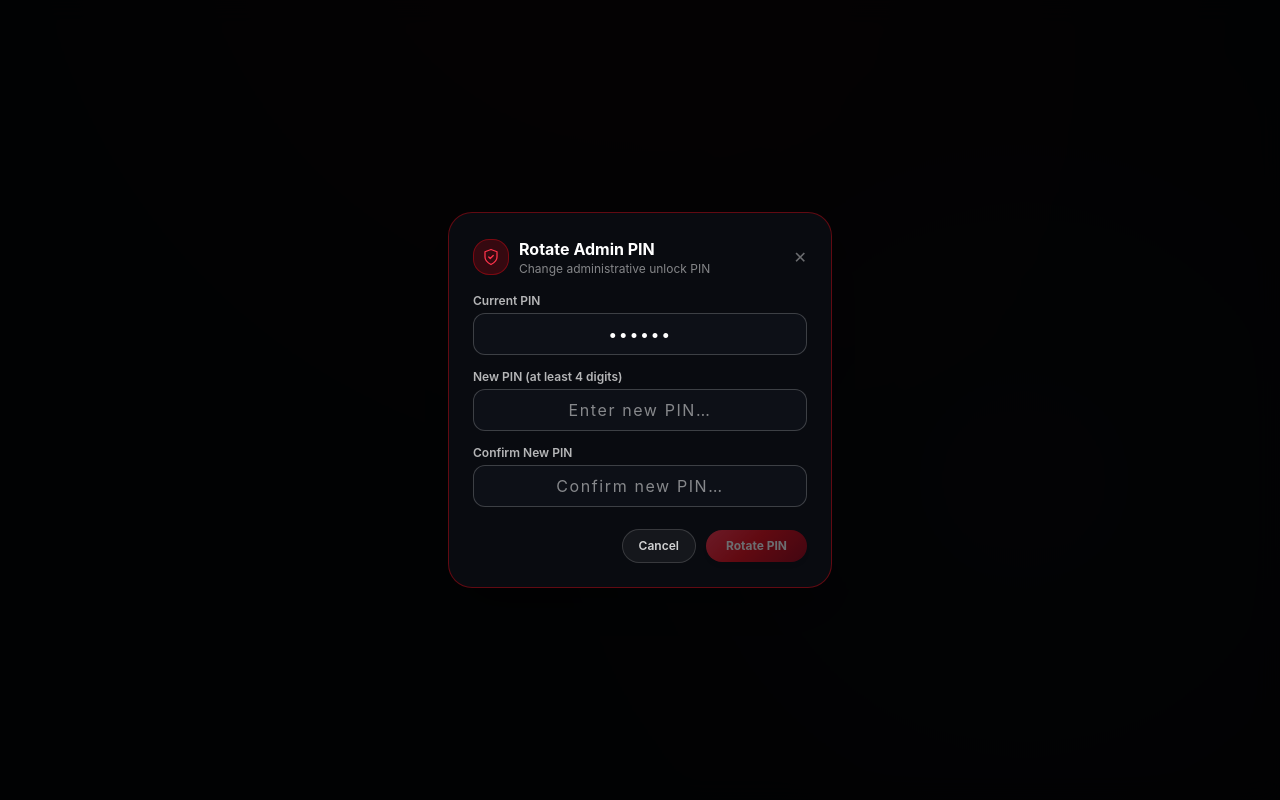
Test: ChangeAdminPinModal › validates non-numeric characters
Type "abcd" into the password field labelled "New PIN (at least 4 digits)" at (640, 410), box [473, 389, 807, 431]
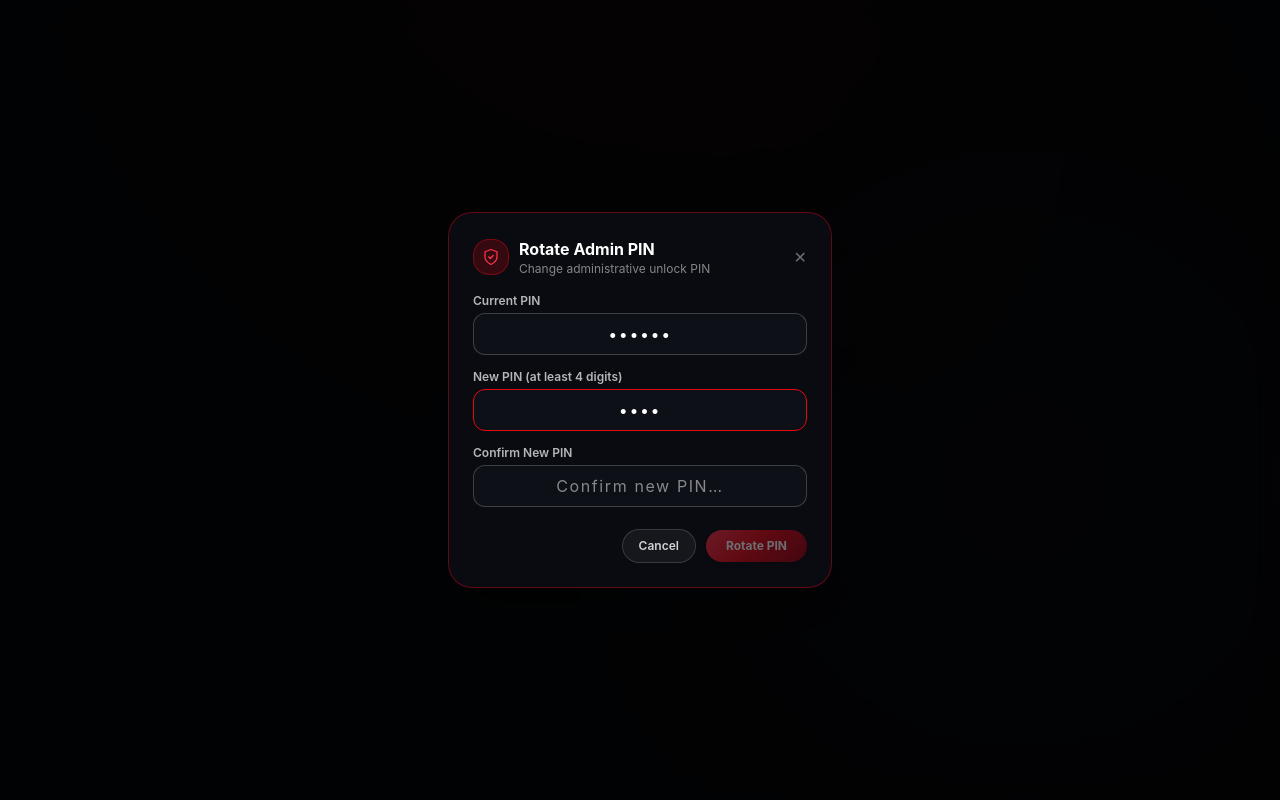
Type "abcd" into the password field labelled "Confirm New PIN" at (640, 486), box [473, 465, 807, 507]
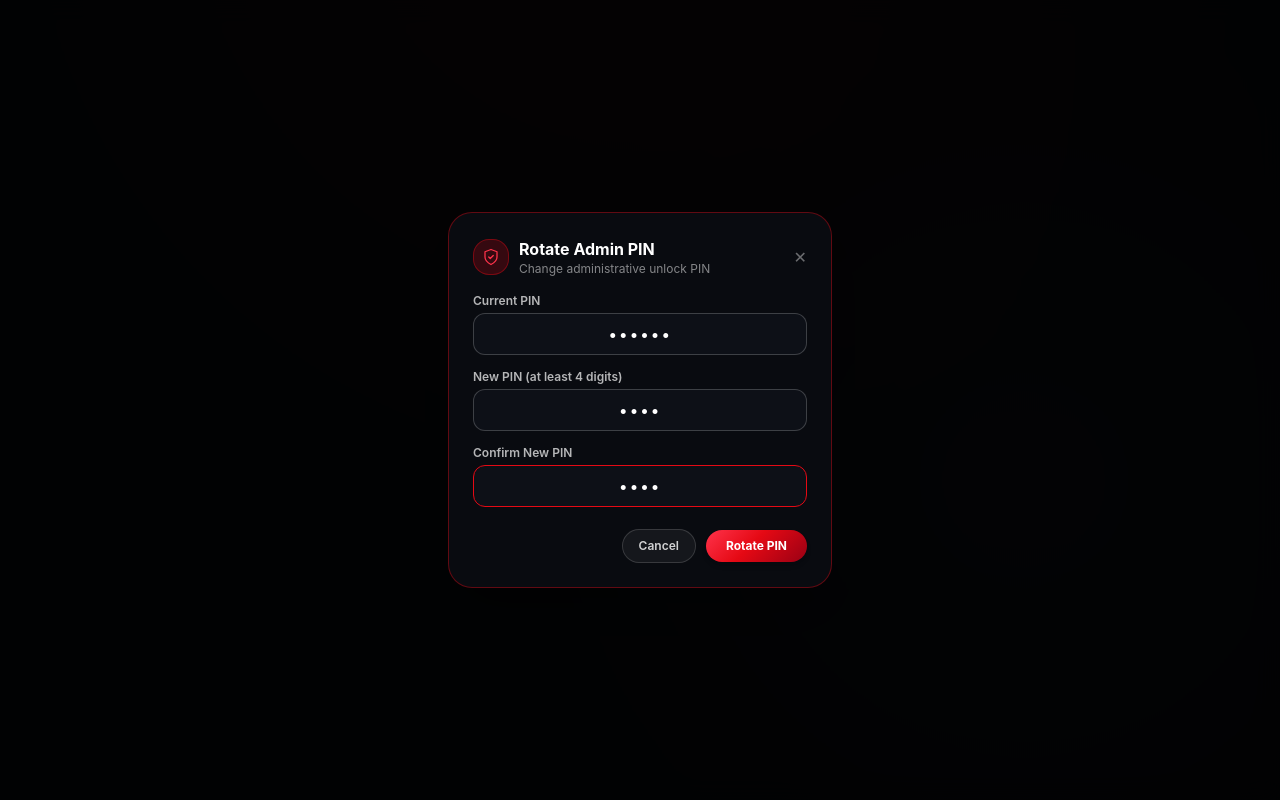
Click the button "Rotate PIN" at (756, 546), box [706, 530, 807, 562]
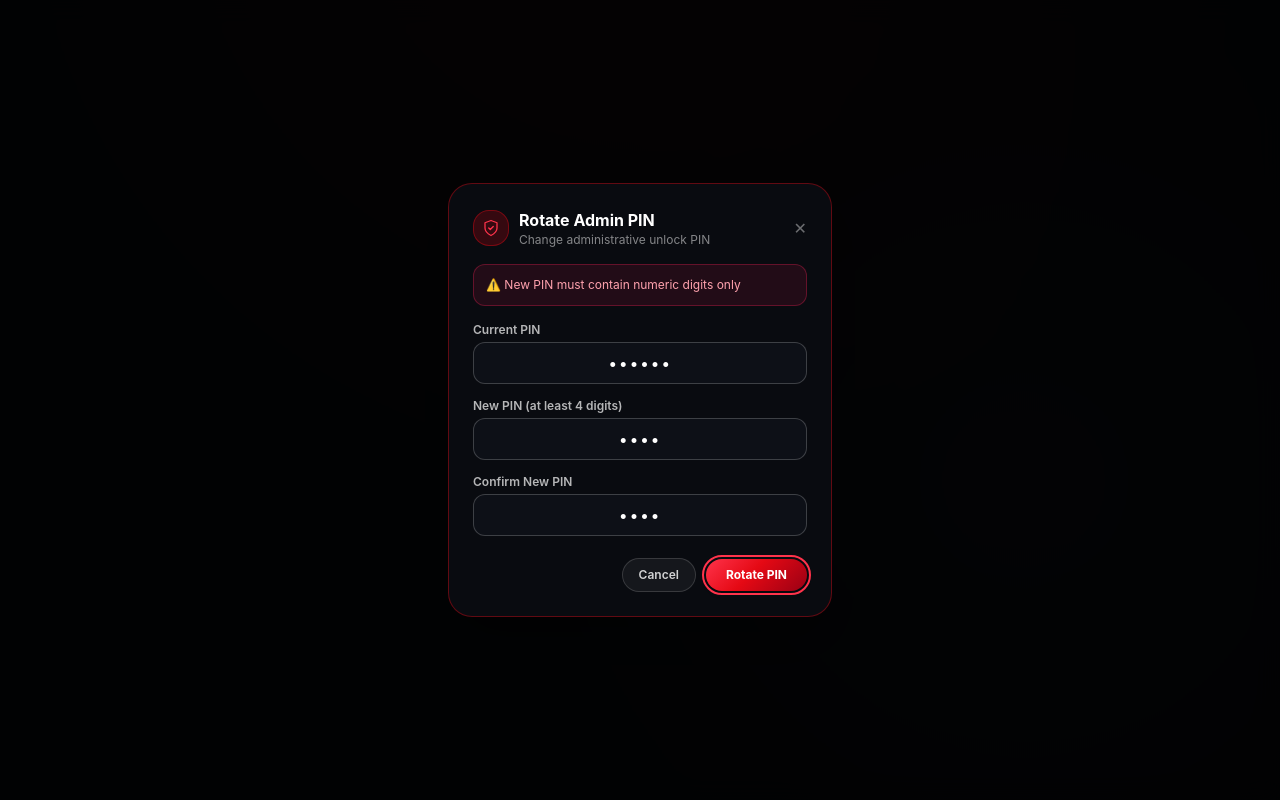
Expected: the text "⚠️ New PIN must contain numeric digits only" is shown, [473, 264, 807, 306]
